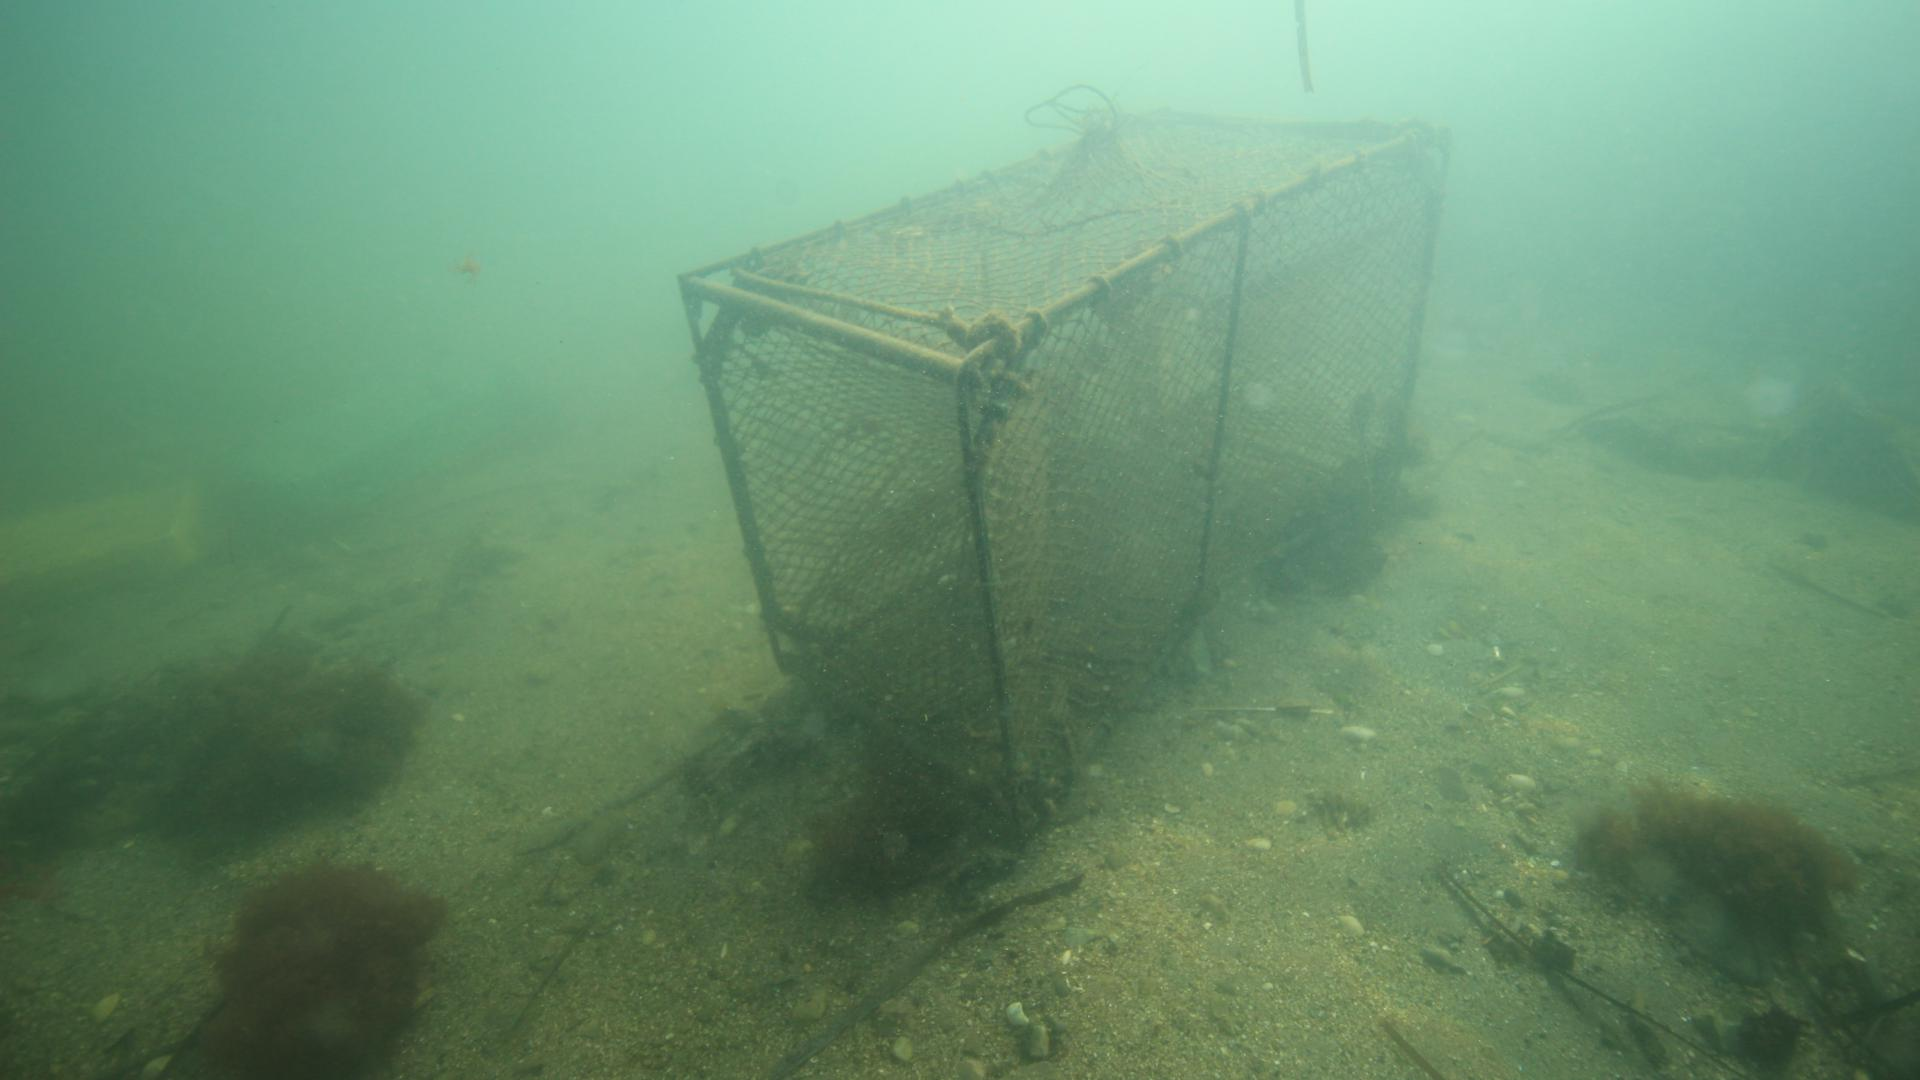rectangular fish trap: (669, 96, 1461, 845)
